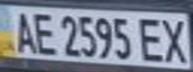2: (54, 11, 81, 57)
5: (112, 15, 136, 61), (75, 12, 96, 59)
9: (93, 14, 115, 58)
A: (6, 8, 39, 54)
E: (136, 15, 169, 62), (30, 9, 60, 56)
X: (157, 15, 193, 64)
